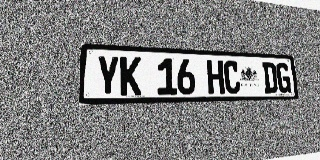1: (157, 58, 177, 95)
6: (176, 59, 196, 95)
C: (223, 61, 241, 94)
D: (262, 62, 278, 93)
G: (276, 63, 291, 93)
H: (207, 60, 225, 94)
K: (120, 56, 141, 95)
Y: (96, 55, 119, 96)
